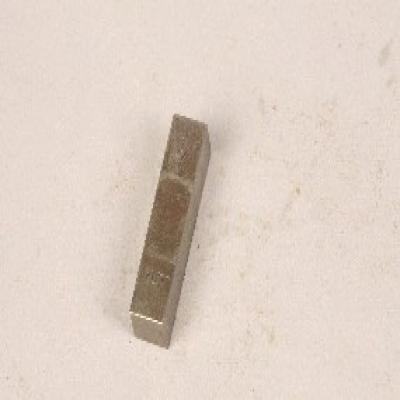technique: (129, 114, 212, 349)
